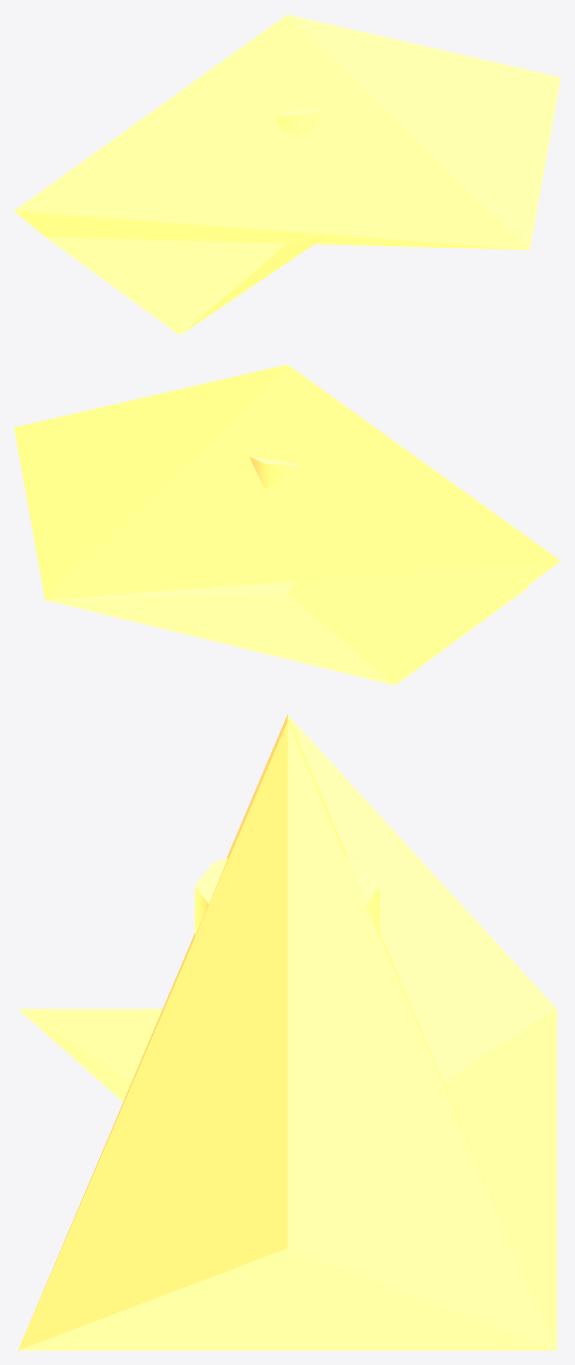
The model's file is model-river-lantern-paperboat.glb.
3 views of the same model, one above another, from view 1: azimuth 30°, elevation 25°; view 2: azimuth 150°, elevation 25°; view 3: azimuth 270°, elevation 25° (orthographic). The views are drawn at different scales.
Parts seen in each view (by area): view 1: model-river-lantern-paperboat; view 2: model-river-lantern-paperboat; view 3: model-river-lantern-paperboat.
Boxes of the visible parts, bbox=[...] form: model-river-lantern-paperboat: bbox=[14, 14, 560, 335]; model-river-lantern-paperboat: bbox=[14, 364, 560, 685]; model-river-lantern-paperboat: bbox=[18, 714, 556, 1350].
Size of the model in its own units: 0.975 by 0.39 by 0.416.
